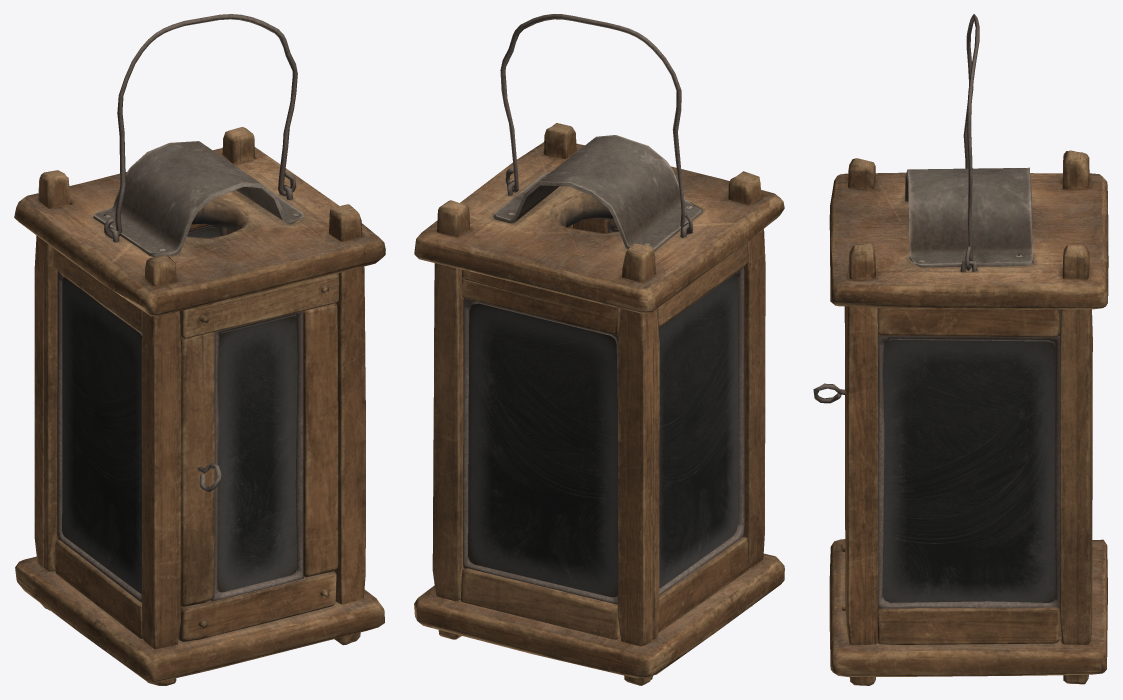
The model's file is wooden_lantern_01_lod1.glb.
The picture shows the model from 3 angles, left to right: view 1: azimuth 30°, elevation 25°; view 2: azimuth 150°, elevation 25°; view 3: azimuth 270°, elevation 25°; orthographic projection.
Parts seen in each view (by area): view 1: wooden_lantern_01, wooden_lantern_01_door, wooden_lantern_01_handle; view 2: wooden_lantern_01, wooden_lantern_01_handle; view 3: wooden_lantern_01, wooden_lantern_01_handle, wooden_lantern_01_door.
Boxes of the visible parts, bbox=[...] form: wooden_lantern_01: bbox=[14, 127, 385, 685]; wooden_lantern_01_door: bbox=[178, 273, 339, 641]; wooden_lantern_01_handle: bbox=[104, 14, 297, 238]; wooden_lantern_01: bbox=[414, 123, 784, 685]; wooden_lantern_01_handle: bbox=[500, 14, 692, 234]; wooden_lantern_01: bbox=[829, 150, 1108, 685]; wooden_lantern_01_handle: bbox=[963, 14, 979, 270]; wooden_lantern_01_door: bbox=[813, 306, 846, 625].
Bounding box in the file's own units: 0.221 × 0.5301 × 0.2336.
2 materials, 2 textured.
